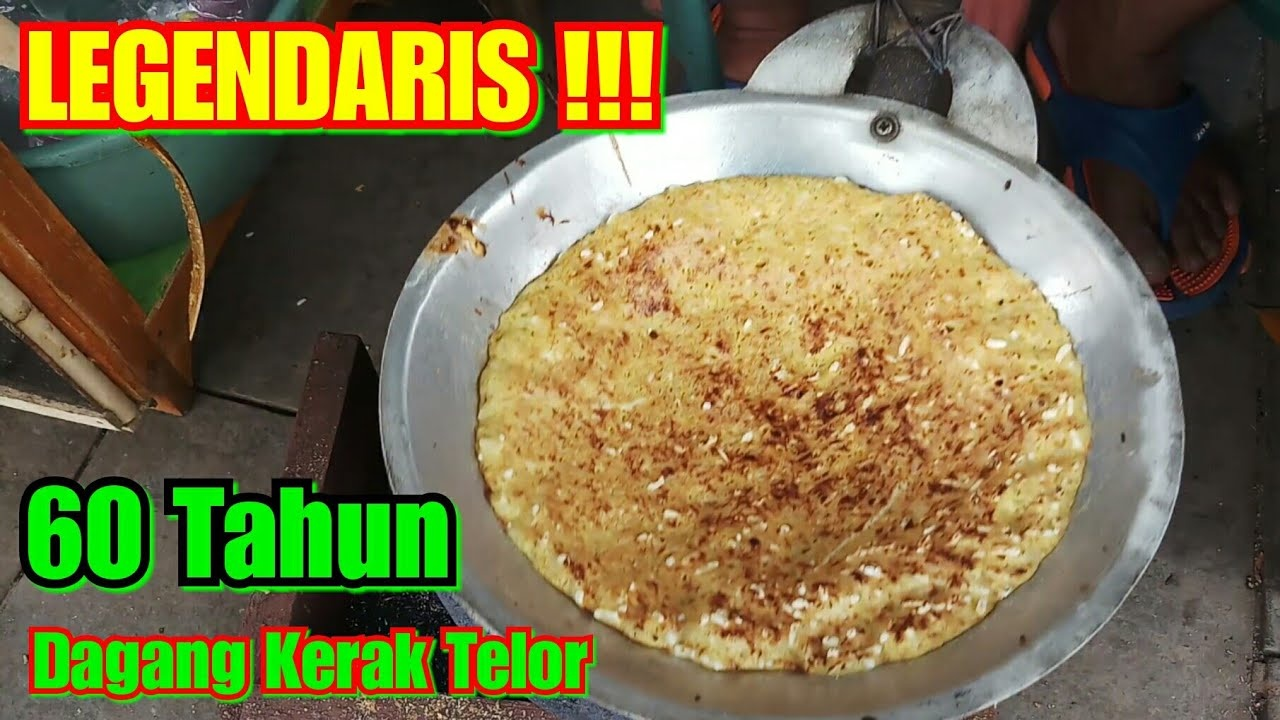kerak_telor: (476, 175, 1095, 678)
